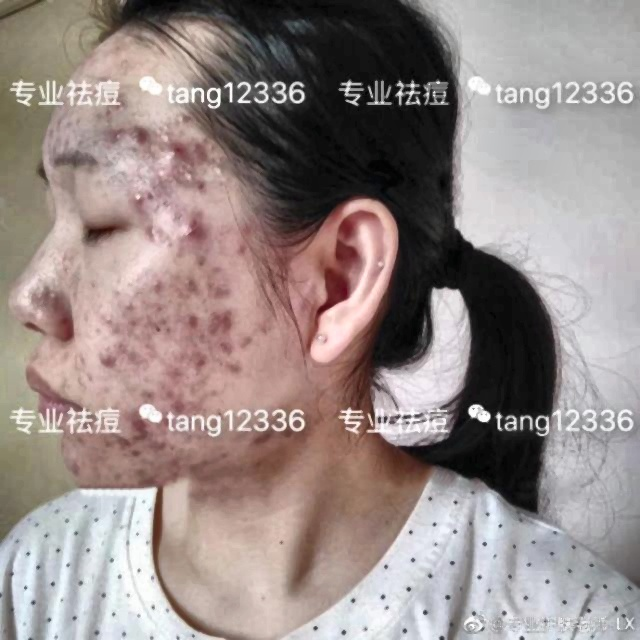nodule: (58, 446, 92, 484), (92, 430, 131, 460), (122, 439, 156, 473), (194, 309, 236, 330), (164, 140, 187, 173), (136, 215, 164, 242), (110, 95, 136, 124), (179, 264, 199, 300), (95, 341, 116, 374), (98, 313, 125, 337), (222, 215, 256, 234), (160, 355, 183, 382), (167, 390, 184, 424), (174, 218, 196, 243), (164, 106, 188, 128), (194, 347, 215, 372), (117, 291, 137, 317), (144, 274, 167, 296), (205, 277, 226, 300), (130, 403, 146, 432), (224, 348, 243, 372), (152, 429, 174, 449), (104, 125, 127, 144), (239, 238, 256, 262), (210, 336, 229, 357), (130, 120, 146, 144), (179, 304, 199, 323), (140, 384, 158, 405), (175, 165, 197, 182), (127, 191, 143, 213), (196, 138, 212, 158)
